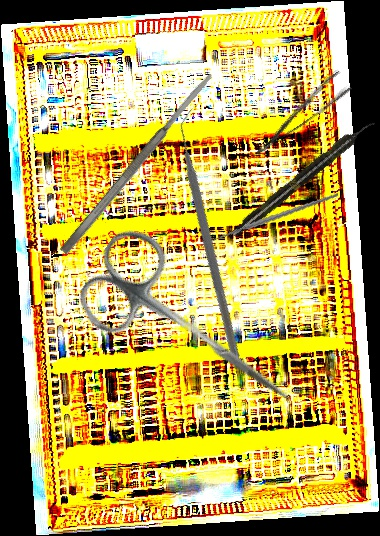Chopper: (86, 106, 342, 363)
Dressing Forceps: (244, 68, 354, 157)
Handpiece: (228, 115, 379, 241)
Hook Surgical: (199, 171, 339, 275)
Iris Scissors: (65, 218, 322, 441)
Spatula Surgical: (58, 70, 217, 257)
